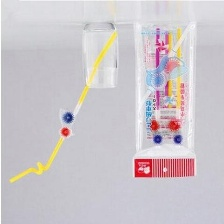drinking_straw: (5, 27, 122, 187)
glass: (78, 18, 121, 93)
